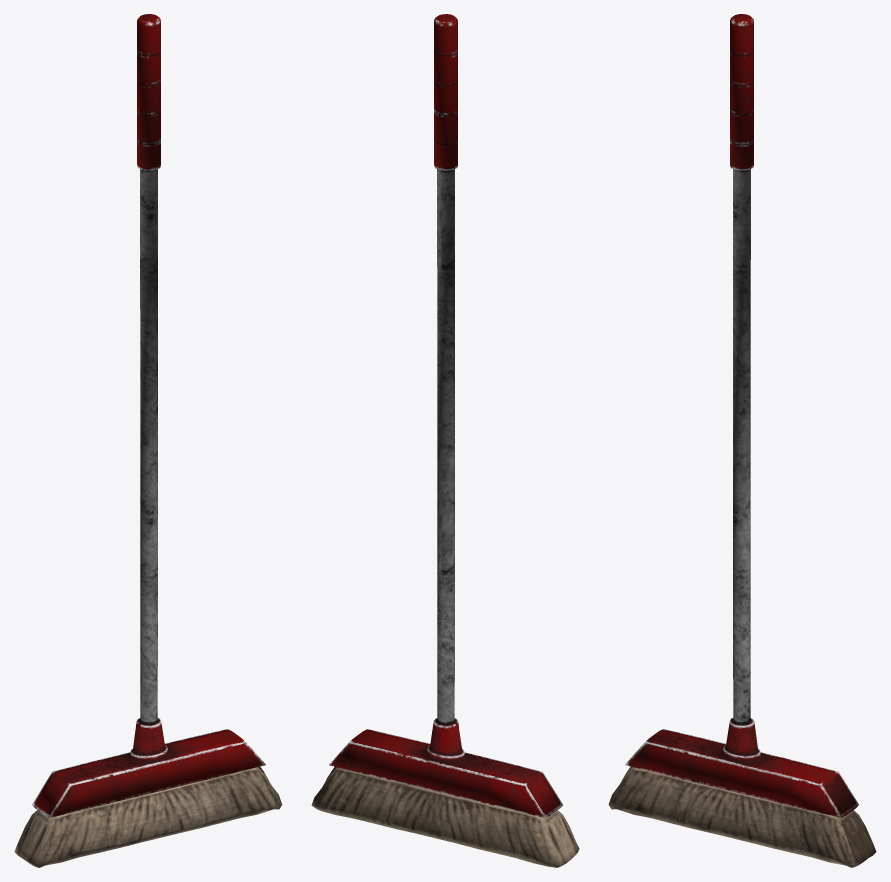
File: Broom1.fbx
3 renders of one model, left to right at view 1: azimuth 30°, elevation 25°; view 2: azimuth 150°, elevation 25°; view 3: azimuth 330°, elevation 25°, orthographic.
Visible parts, largest first — view 1: Retopo_Broom; view 2: Retopo_Broom; view 3: Retopo_Broom.
Boxes of the visible parts, x1,y1,x2,y2 form: Retopo_Broom: [14, 14, 282, 867]; Retopo_Broom: [311, 14, 579, 867]; Retopo_Broom: [608, 14, 876, 867].
Size of the model in its own units: 52.89 by 163 by 9.07.
Materials: 1 (1 with a texture image).
